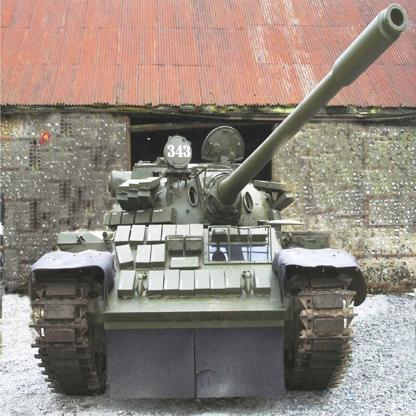Tank: (29, 70, 368, 405)
